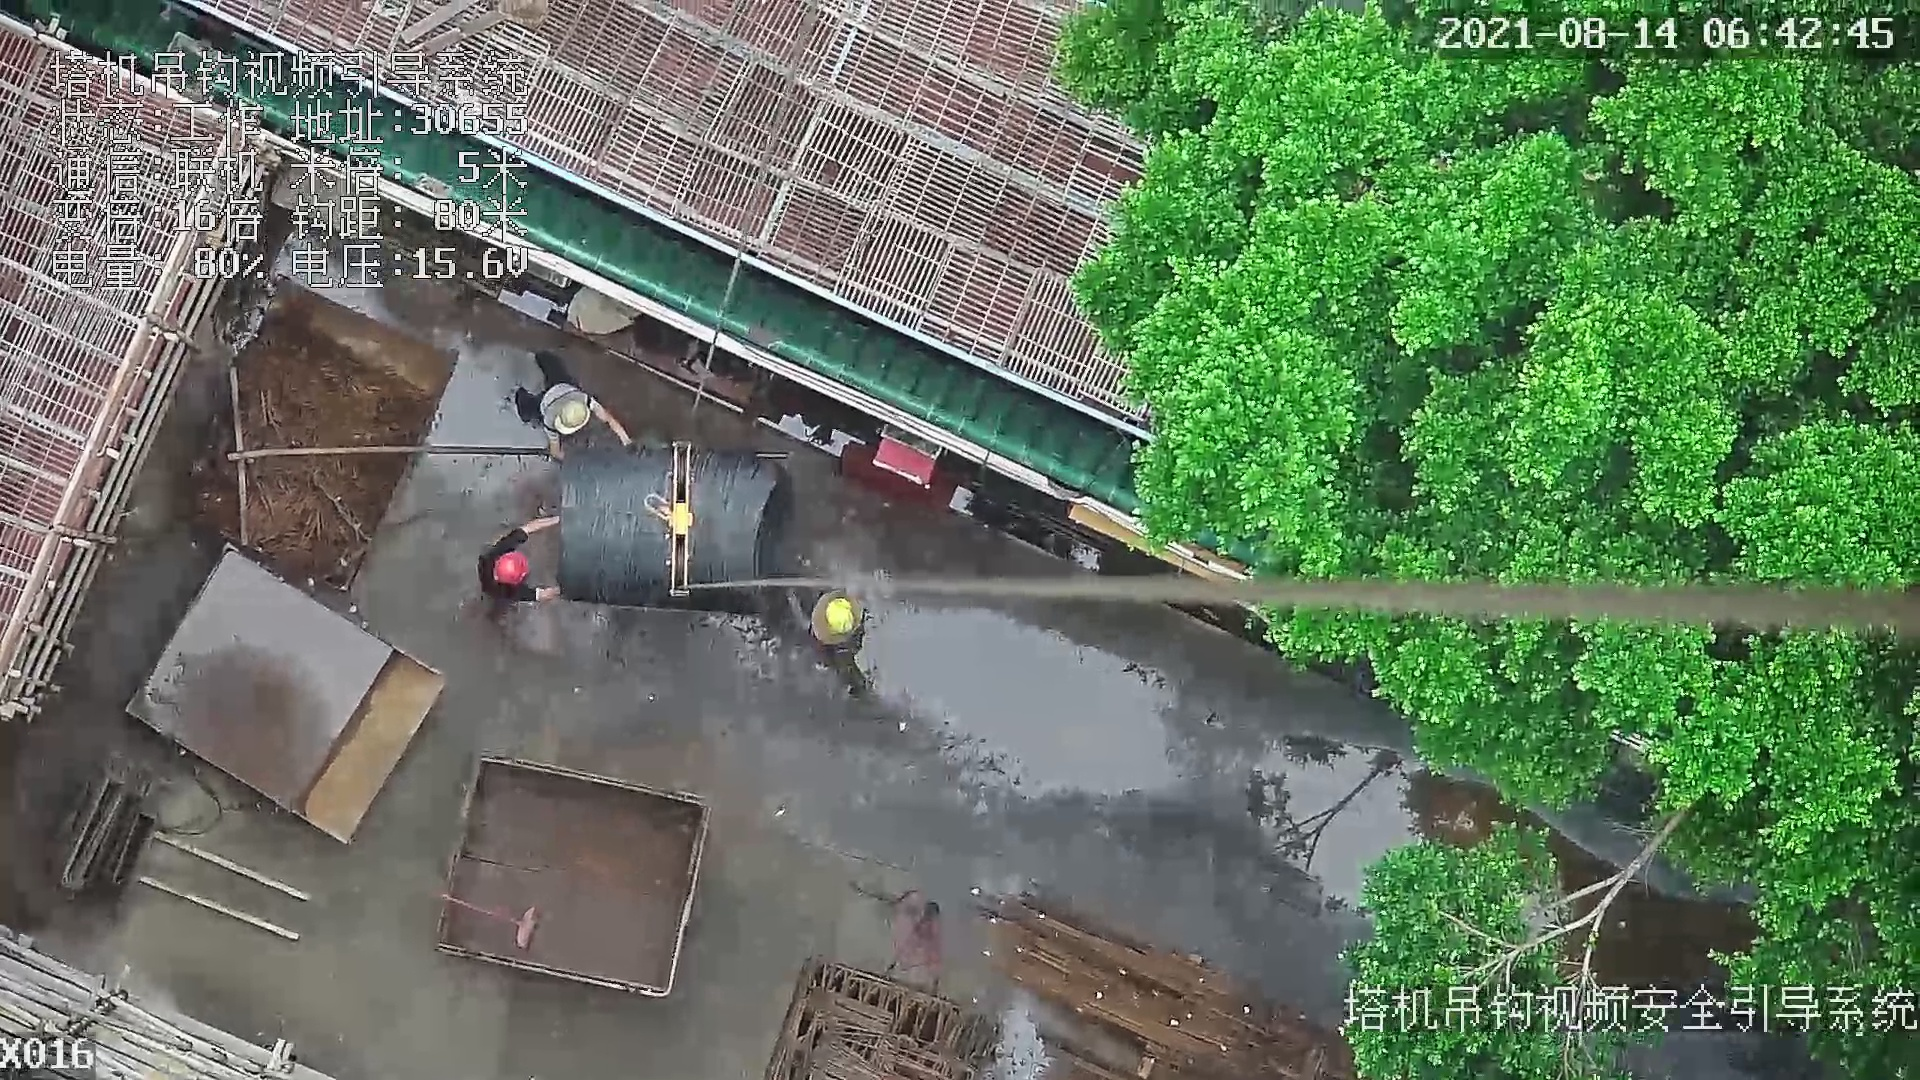helmet: (493, 550, 528, 586), (826, 600, 858, 632), (556, 404, 589, 434)
person: (514, 346, 649, 465), (799, 581, 885, 697), (470, 513, 564, 605)
